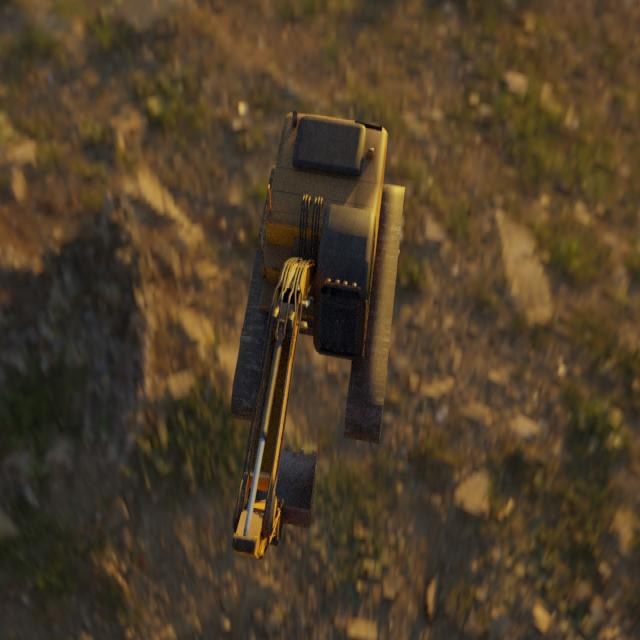excavator: (230, 109, 405, 560)
